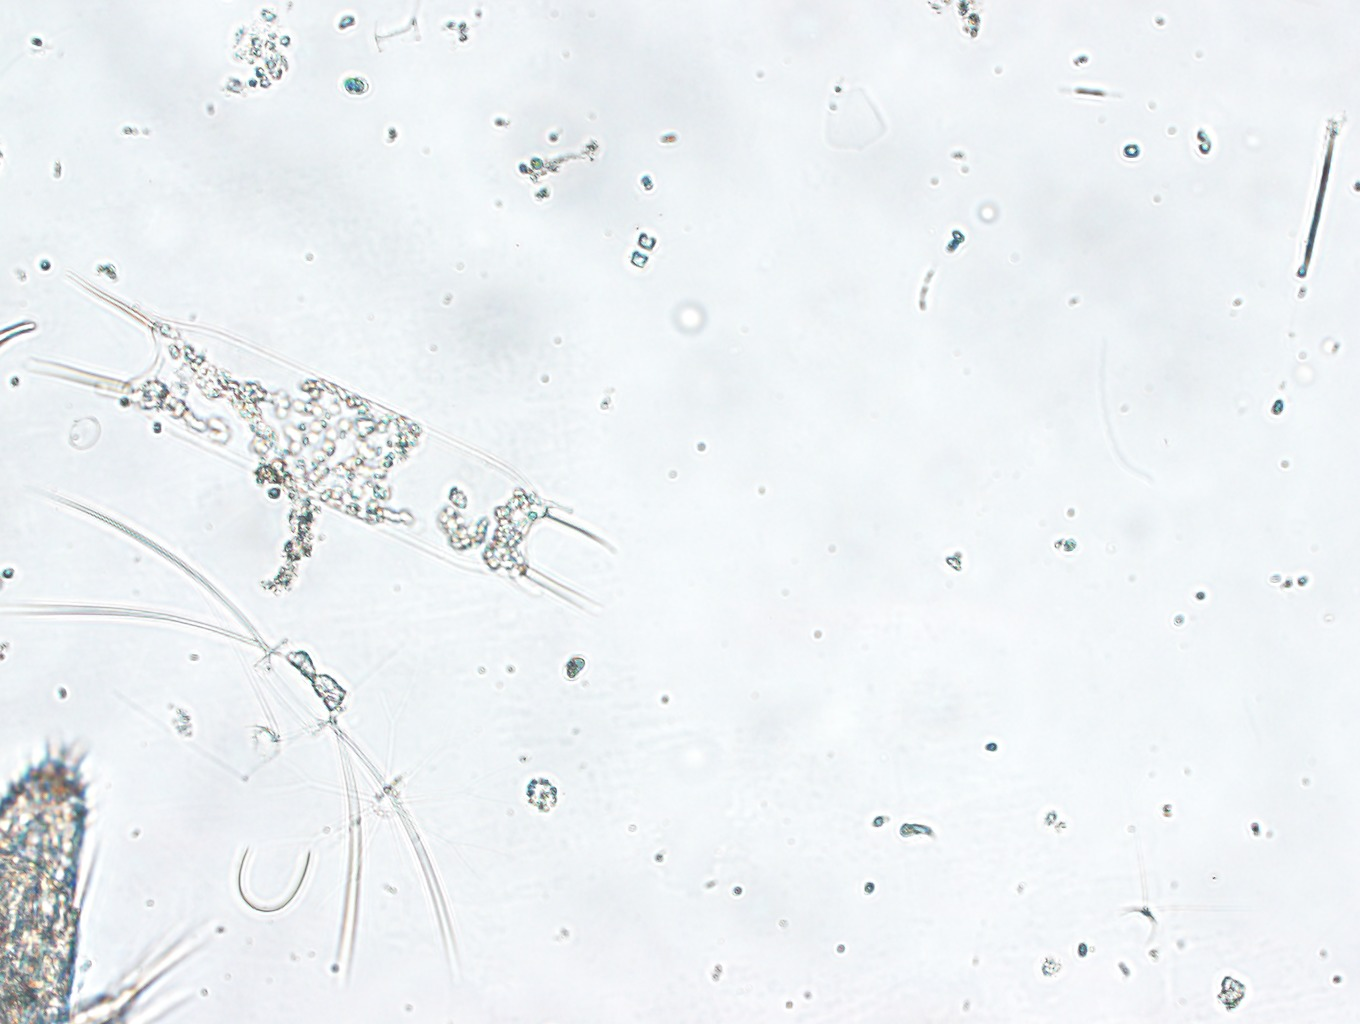biddulphia: (9, 243, 622, 629)
chaetoceros: (5, 484, 469, 994)
